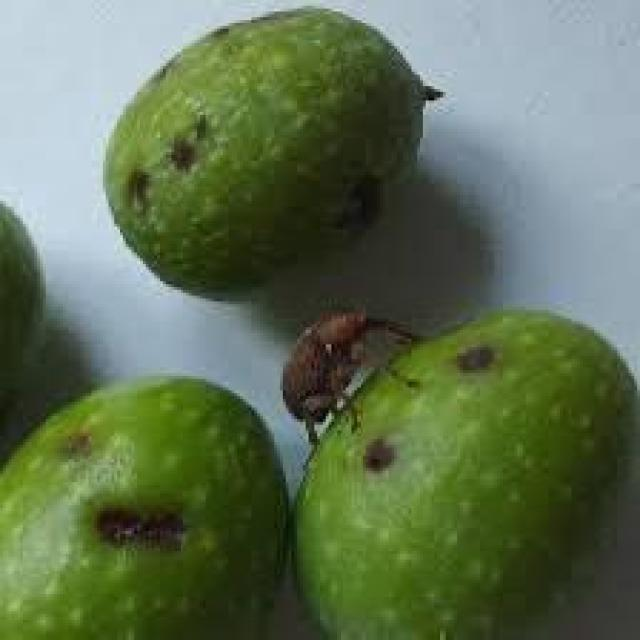Anthracnose: (300, 310, 634, 637), (106, 8, 433, 300), (0, 376, 286, 637)
